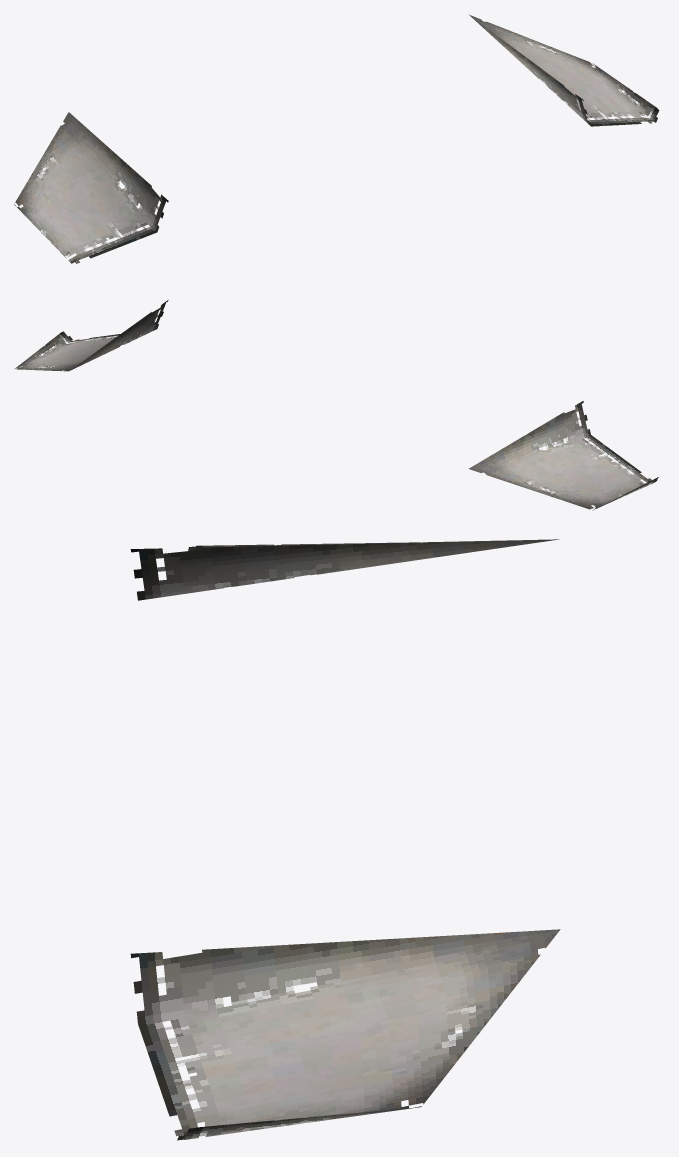
Rendered from hutt_fighter_medium_missle_pod_s01_l3.fbx.
3 renders of one model, top to bottom at view 1: azimuth 30°, elevation 25°; view 2: azimuth 150°, elevation 25°; view 3: azimuth 270°, elevation 25°, orthographic. The views are drawn at different scales.
Visible parts, largest first — view 1: mesh_node; view 2: mesh_node; view 3: mesh_node.
Part boxes in pixels (left/top/right/bottom): mesh_node: left=14, top=14, right=659, bottom=263; mesh_node: left=15, top=300, right=658, bottom=510; mesh_node: left=130, top=539, right=560, bottom=1140.
Size of the model in its own units: 9.48 by 0.941 by 3.04.
Materials: 1 (1 with a texture image).
